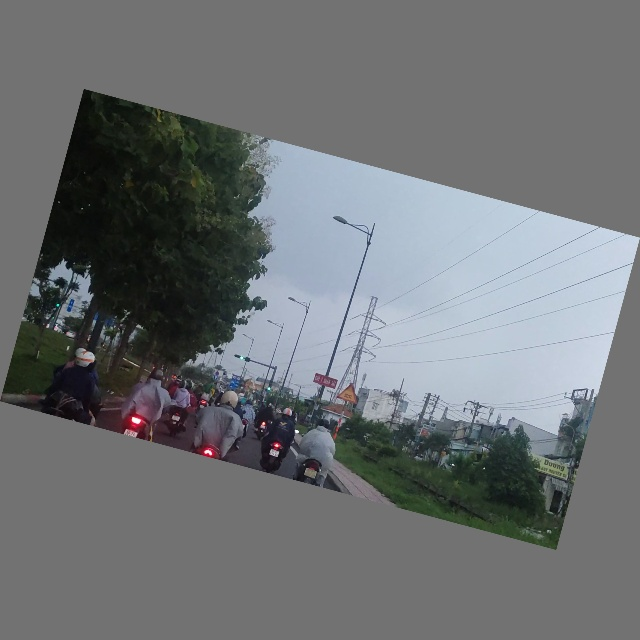W.210: (336, 382, 361, 405)
